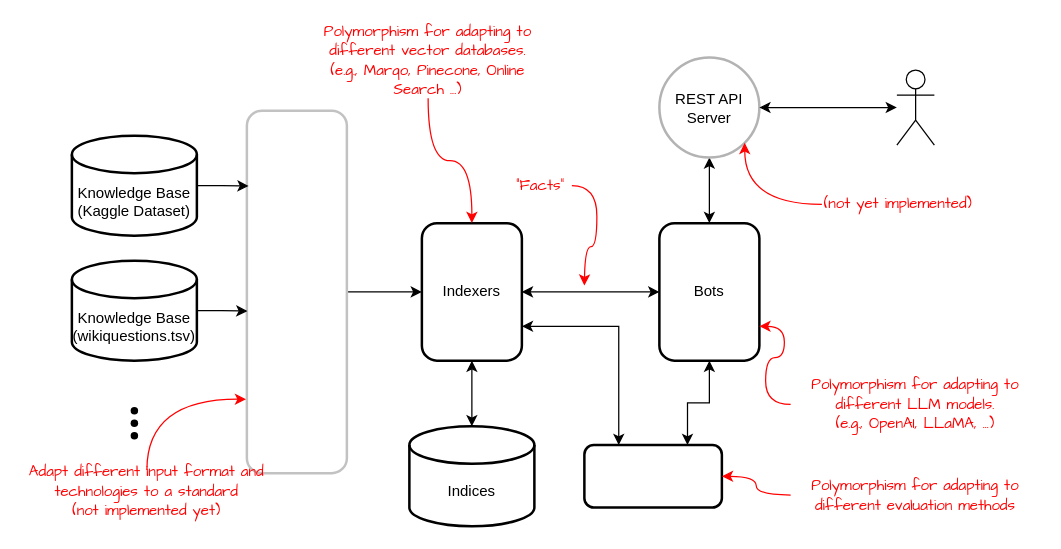
Some shapes in this 1061 by 549 pixel diagram are drawn without their labels. Each missing label, with the box of its shape:
Client: (896, 69, 934, 145)
Evaluators: (582, 443, 722, 508)
Ingestion Adaptors: (245, 109, 348, 474)
